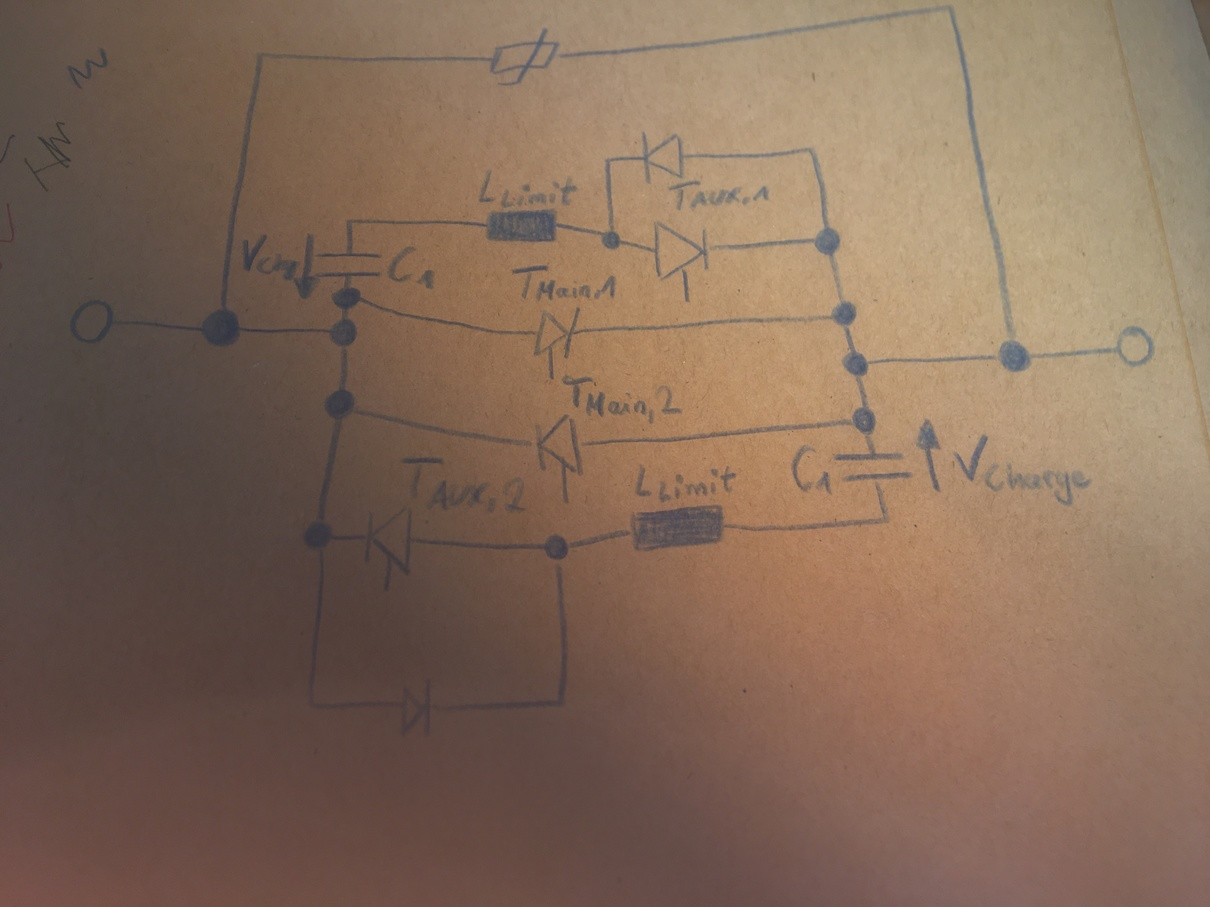capacitor.unpolarized: (832, 449, 918, 485), (314, 248, 385, 280)
diode: (638, 128, 688, 184), (396, 677, 433, 743)
inductor: (628, 503, 730, 555), (484, 207, 562, 245)
junction: (198, 305, 244, 350), (994, 333, 1034, 374), (322, 385, 358, 423), (301, 518, 336, 555), (542, 531, 573, 569), (326, 316, 359, 350), (811, 224, 843, 258), (849, 404, 879, 436), (329, 284, 364, 311), (840, 350, 871, 379), (829, 299, 858, 329), (598, 226, 623, 252), (303, 696, 320, 712), (552, 694, 568, 711), (879, 512, 895, 528), (803, 142, 820, 157), (253, 47, 269, 61), (943, 1, 959, 14), (601, 154, 615, 166), (343, 216, 355, 226)
terminal: (66, 295, 117, 346), (1113, 323, 1157, 369)
text: (952, 432, 1093, 506), (398, 453, 529, 516), (561, 373, 686, 426), (510, 262, 618, 303), (631, 462, 739, 503), (477, 168, 580, 210), (667, 177, 772, 216), (240, 232, 299, 283), (386, 243, 439, 293), (788, 442, 835, 497)
thyristor: (524, 413, 587, 495), (361, 505, 415, 588), (649, 219, 712, 289), (533, 304, 582, 371)
varistor: (487, 25, 565, 89)
